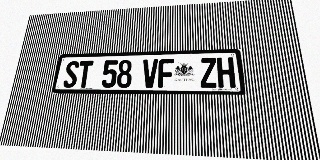5: (101, 60, 118, 88)
8: (116, 60, 133, 88)
F: (158, 59, 174, 88)
H: (217, 57, 236, 88)
S: (62, 61, 80, 88)
T: (76, 60, 94, 88)
V: (142, 59, 158, 88)
Z: (200, 58, 218, 88)
